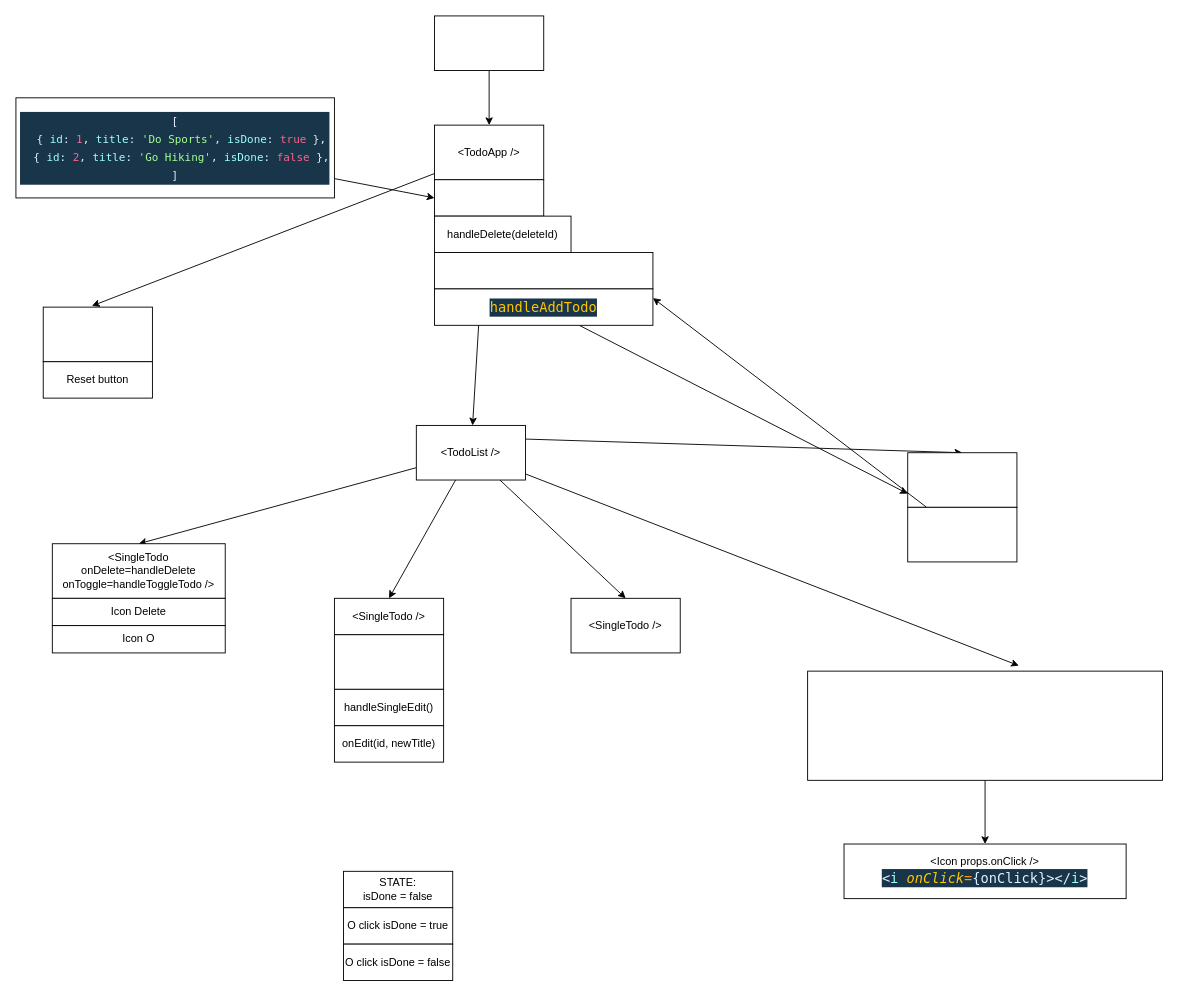
Image size: 1178x996. Some labels were removed from this diagram. The box of each missing label's shape, as (x1, y1, x2, y2) in pixels:
<AddTodo />: (907, 452, 1017, 507)
<App />: (434, 15, 544, 71)
<SingleTodo /> < Icon onClick = { clickHandler } />: (807, 670, 1163, 780)
<TodoHeader />: (42, 306, 152, 362)
handleToggleTodo (toggleId): (434, 252, 653, 289)
STATE newTitle = '' isEditOn = false: (334, 634, 444, 689)
STATE newTodoTitle: (907, 506, 1017, 562)
STATE: mainTodoArr = []: (434, 179, 544, 216)
